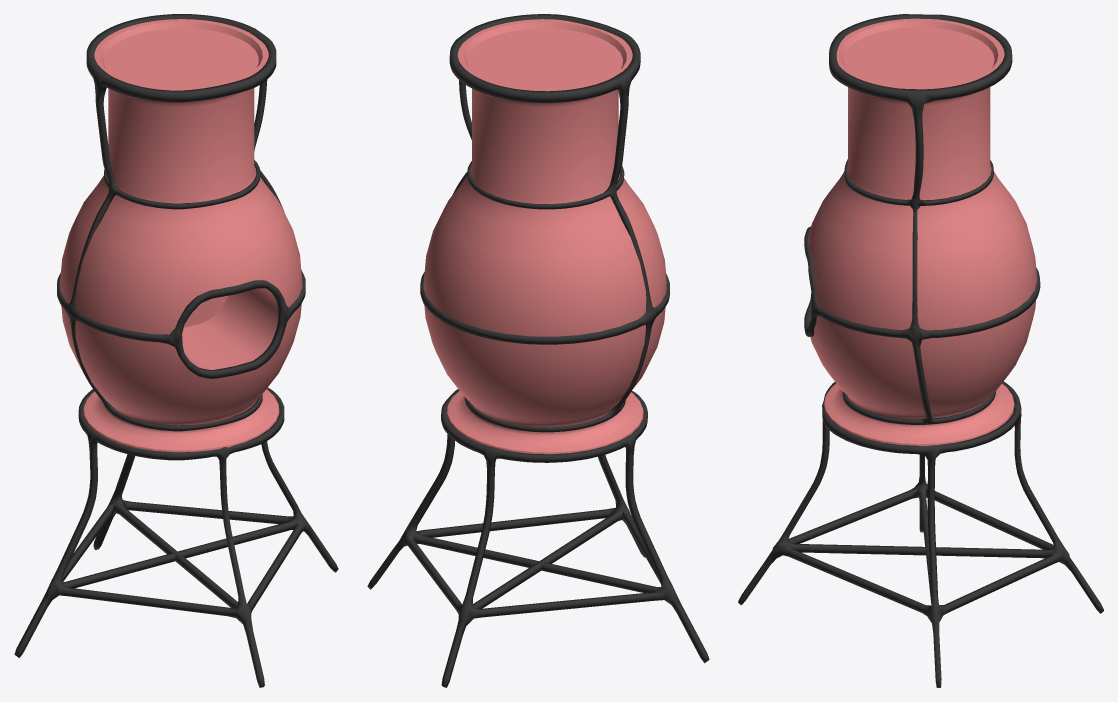
The model's file is Four_00.fbx.
3 views of the same model, side by side, from view 1: azimuth 30°, elevation 25°; view 2: azimuth 150°, elevation 25°; view 3: azimuth 270°, elevation 25° (orthographic).
Parts seen in each view (by area): view 1: Four_00; view 2: Four_00; view 3: Four_00.
Boxes of the visible parts, x1,y1,x2,y2 form: Four_00: (14,14,338,687); Four_00: (367,14,709,687); Four_00: (738,14,1103,687).
Size of the model in its own units: 3.17 by 5.19 by 3.09.
